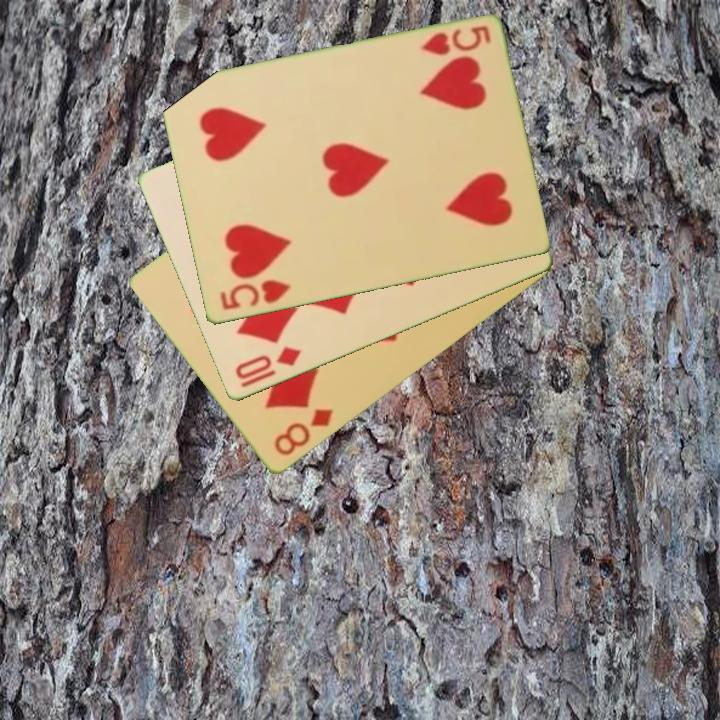10d: (231, 343, 304, 383)
5h: (216, 276, 294, 313), (417, 22, 493, 59)
8d: (270, 405, 336, 460)
